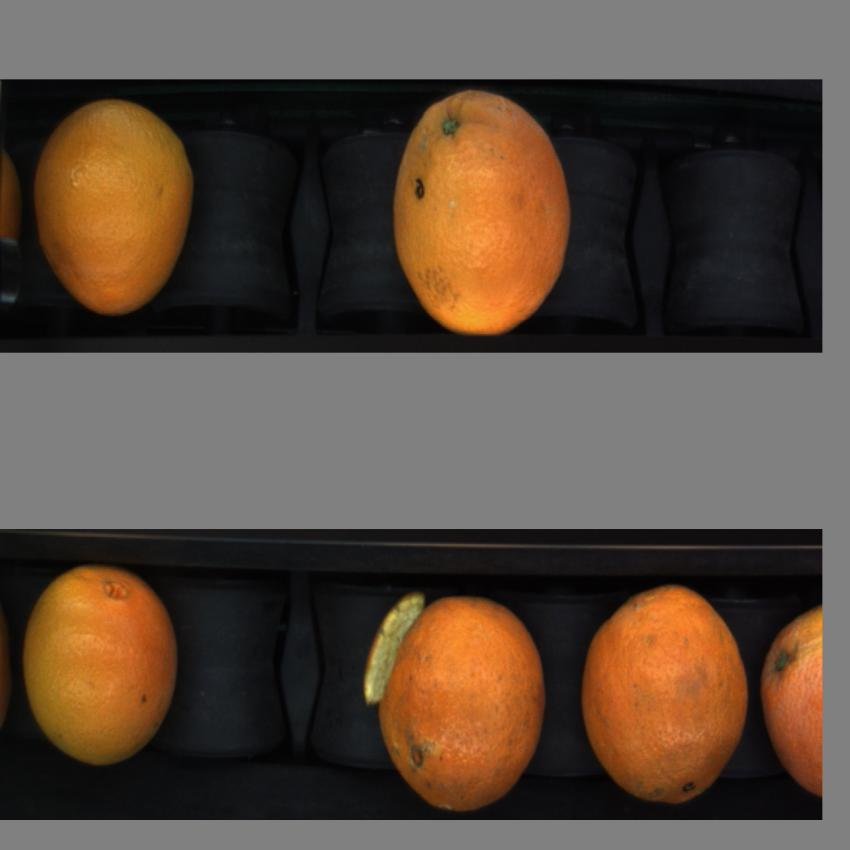Buen estado: (387, 88, 579, 339), (574, 579, 752, 809), (29, 84, 200, 316), (20, 554, 182, 772), (758, 598, 822, 804)
Mal estado: (360, 569, 554, 809)
